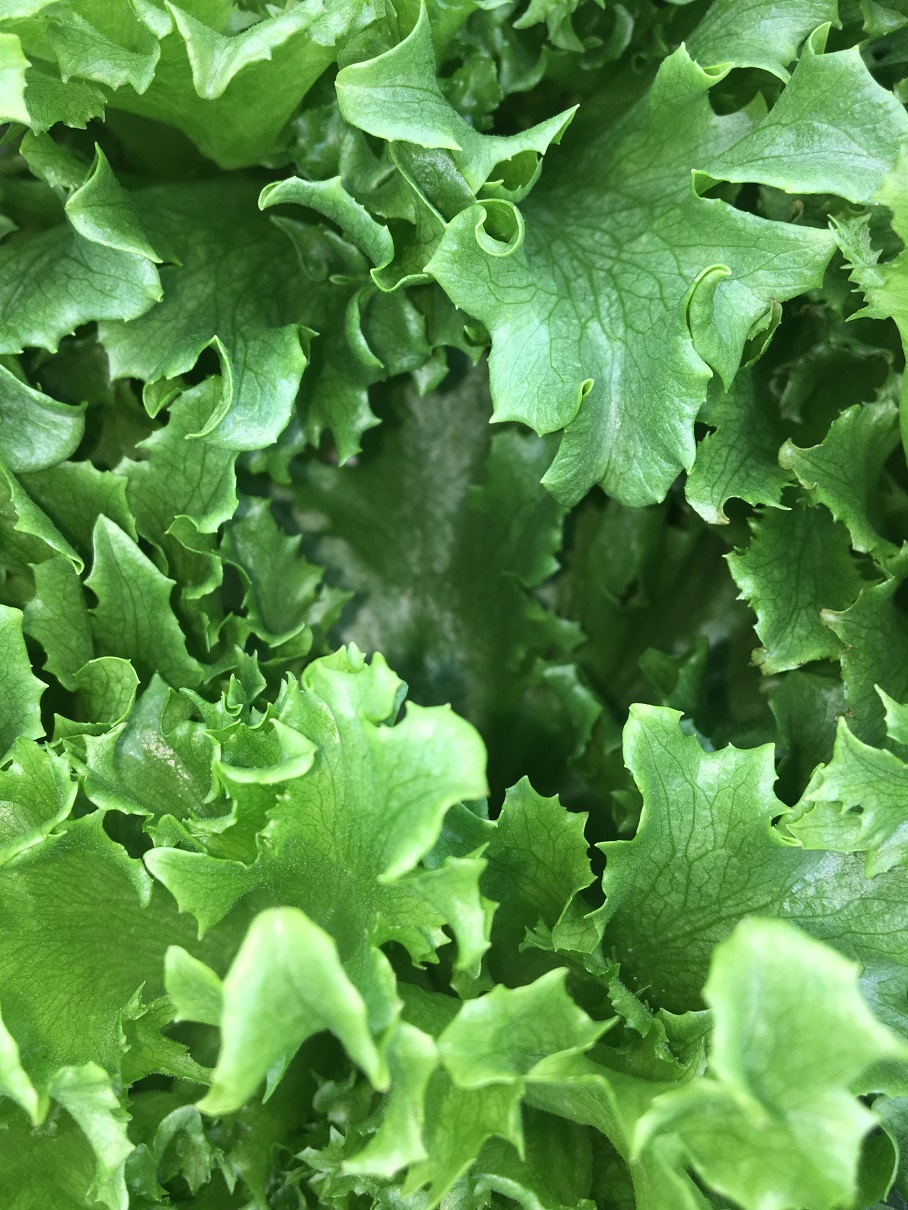tipburn: (805, 587, 858, 647), (745, 280, 798, 331), (743, 626, 782, 681), (824, 687, 871, 728)
